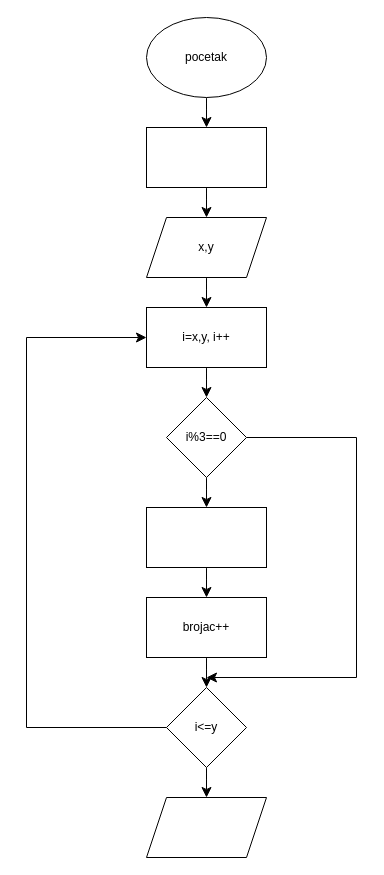
Image size: 384x875. Some labels were removed from this diagram. The shapes that lost their labels are listed below. From the top down, each one's centre as x and y in pixels, then its label:
(x=206, y=157): suma=0 brojac=0
(x=206, y=537): suma+=i
(x=206, y=827): brojac
